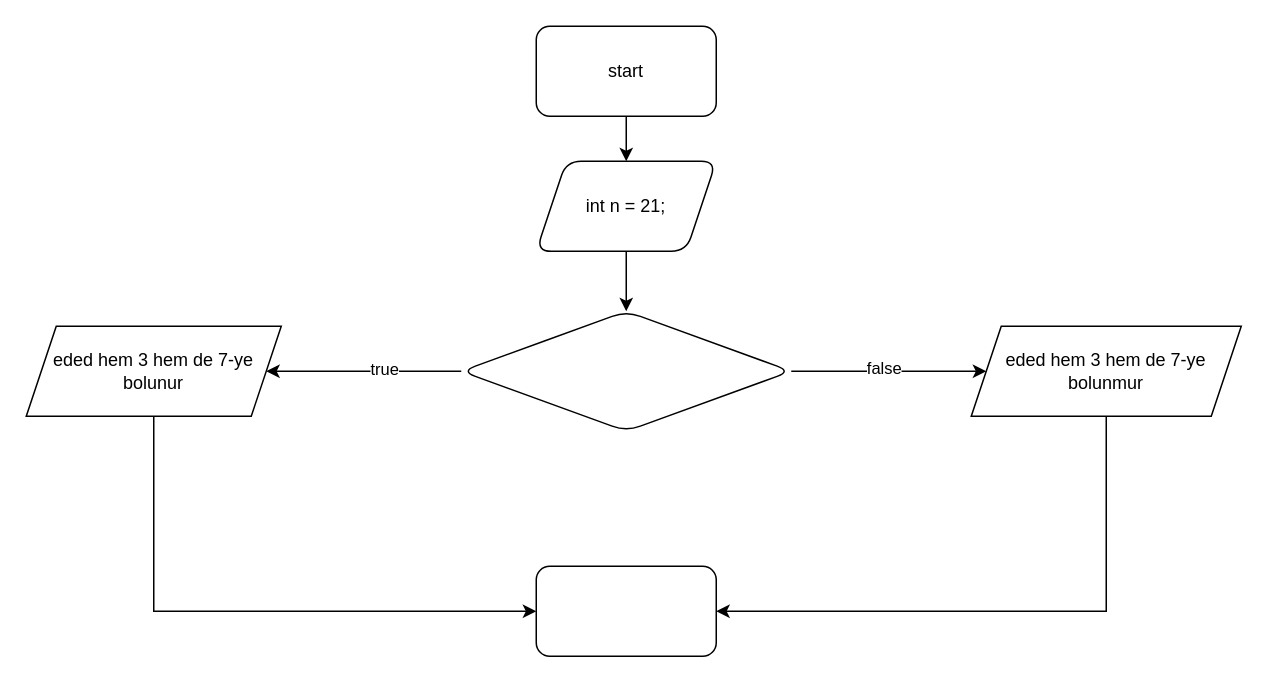
This 1268x683 diagram has some shape labels left out. The shapes that lost their labels are listed below. From the top down, each one's centre as x and y in pixels, then its label:
At point (625, 370): "n % 3 == 0 and n % 7 ==0".
At point (625, 610): "end".
